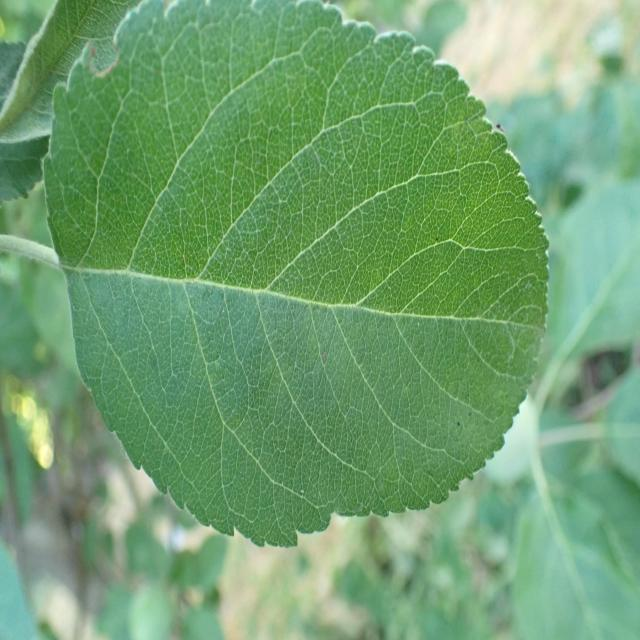healthy: (44, 0, 550, 548)
